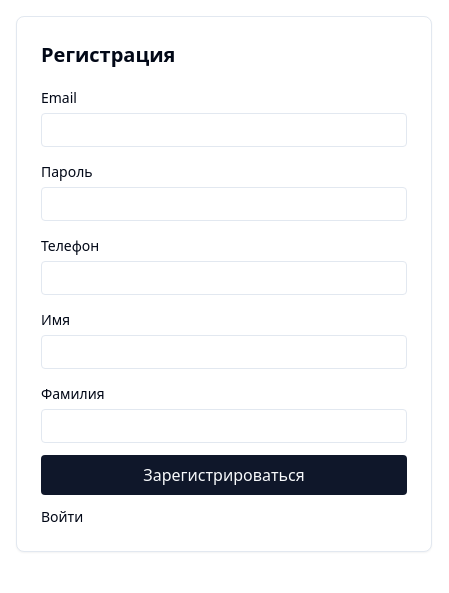
Test: RegisterPage › shows field error on 409 duplicate email
This screenshot has width=449, height=593.
In the field labelled "Email": (224, 130) [41, 113, 407, 147], type "a@b.co"
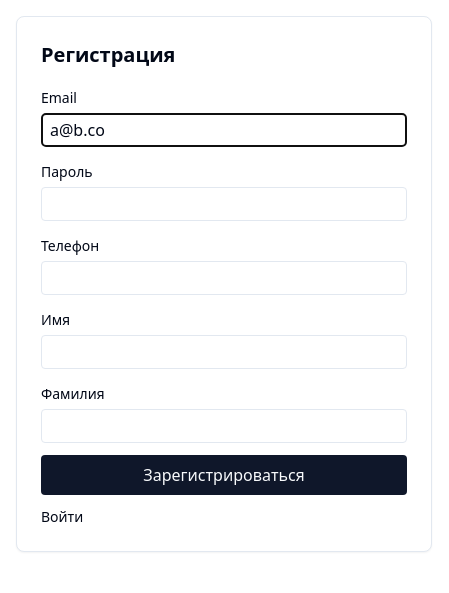
In the password field labelled "Пароль": (224, 204) [41, 187, 407, 221], type "12345678"
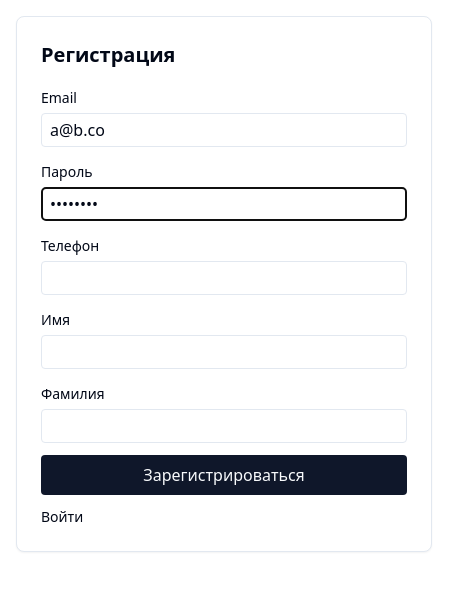
Click the button "Зарегистрироваться": (224, 475) [41, 455, 407, 495]
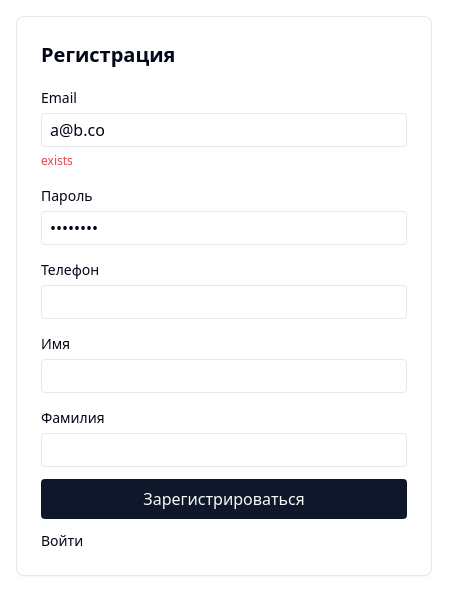
expect the text "exists" is shown: met, box [41, 152, 73, 169]
